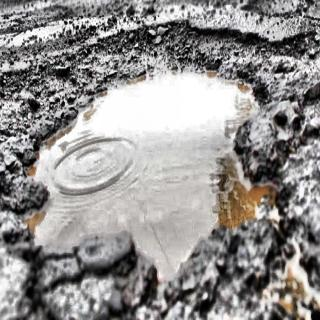pothole: (3, 22, 298, 305)
